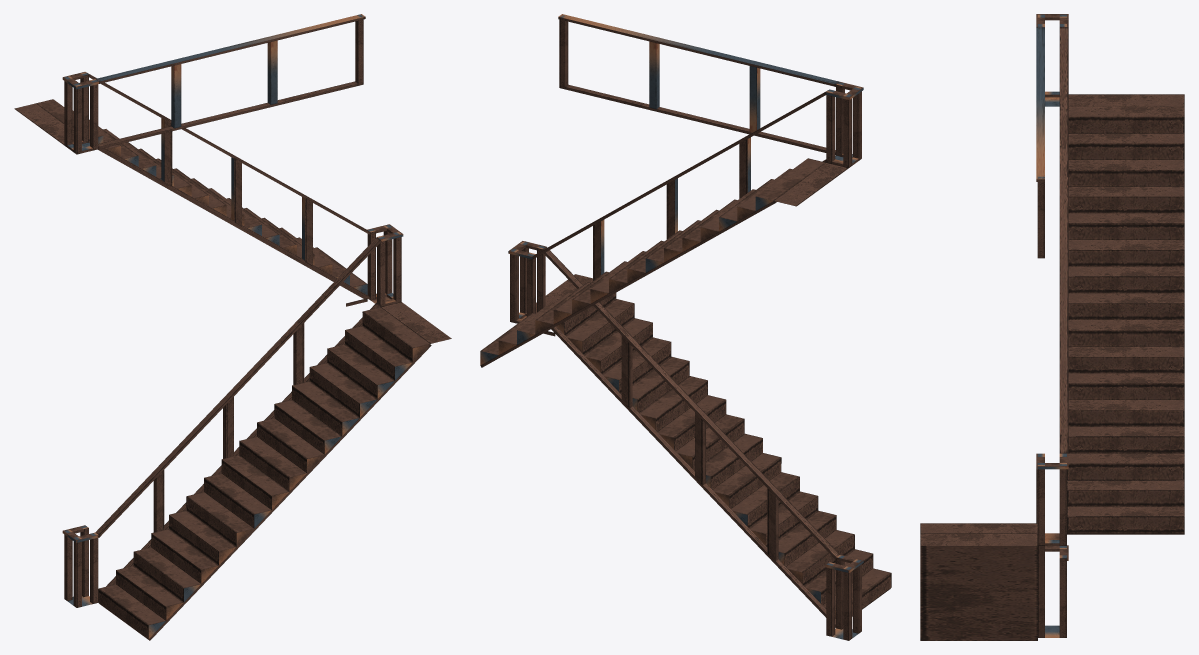
The model's file is Stairway.fbx.
3 views of the same model, side by side, from view 1: azimuth 30°, elevation 25°; view 2: azimuth 150°, elevation 25°; view 3: azimuth 270°, elevation 25° (orthographic). The views are drawn at different scales.
Parts seen in each view (by area): view 1: Stairway; view 2: Stairway; view 3: Stairway.
Part boxes in pixels (left/top/right/bottom): Stairway: left=14, top=14, right=451, bottom=640; Stairway: left=480, top=14, right=891, bottom=640; Stairway: left=920, top=14, right=1184, bottom=640.
Bounding box in the file's own units: 6.41 × 9.8 × 3.83.
